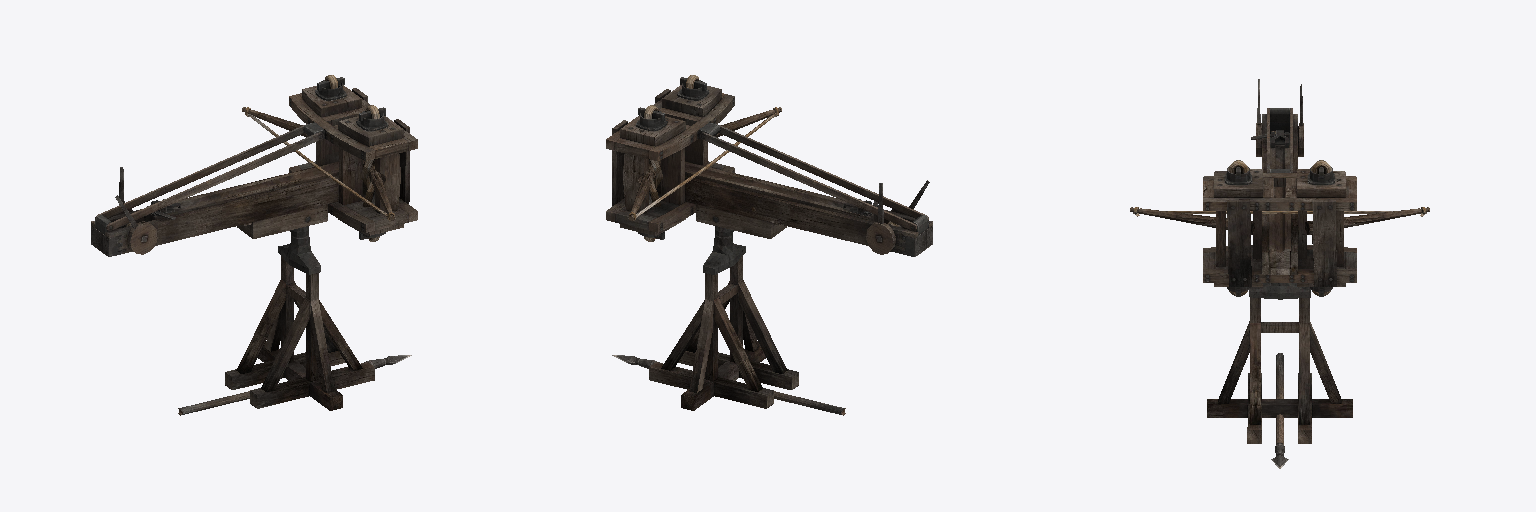
The picture shows the model from 3 angles: view 1: azimuth 30°, elevation 25°; view 2: azimuth 150°, elevation 25°; view 3: azimuth 270°, elevation 25°; orthographic projection.
Bounding box in the file's own units: 157 × 137 × 131.
Materials: 2 (2 with a texture image).